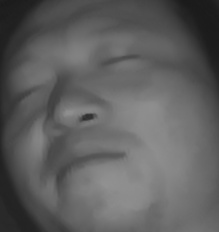blink: (98, 48, 141, 72), (9, 80, 48, 103)
mouth: (46, 141, 127, 187)
